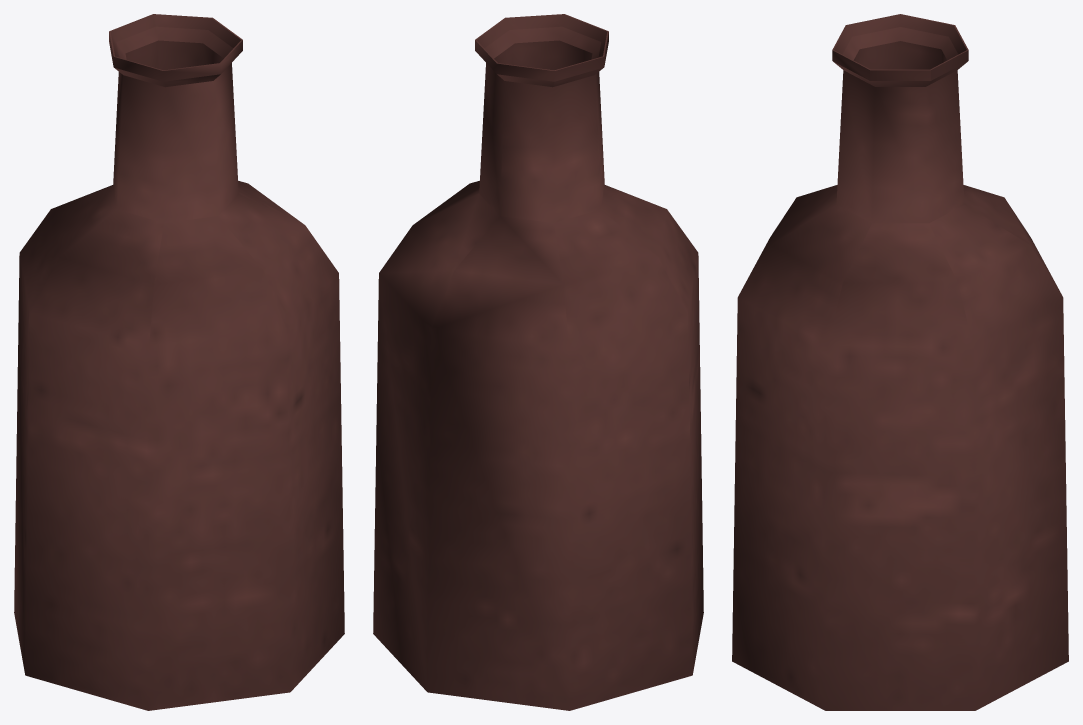
Rendered from MS_Bottle_3c.fbx.
The picture shows the model from 3 angles, left to right: view 1: azimuth 30°, elevation 25°; view 2: azimuth 150°, elevation 25°; view 3: azimuth 270°, elevation 25°; orthographic projection.
Visible parts, largest first — view 1: MSH_Bottle_03; view 2: MSH_Bottle_03; view 3: MSH_Bottle_03.
Boxes of the visible parts, box(x1,y1,x2,y2) form: MSH_Bottle_03: box(14, 14, 344, 710); MSH_Bottle_03: box(373, 14, 703, 710); MSH_Bottle_03: box(732, 14, 1068, 710).
Bounding box in the file's own units: 5.01 × 10.13 × 5.14.
